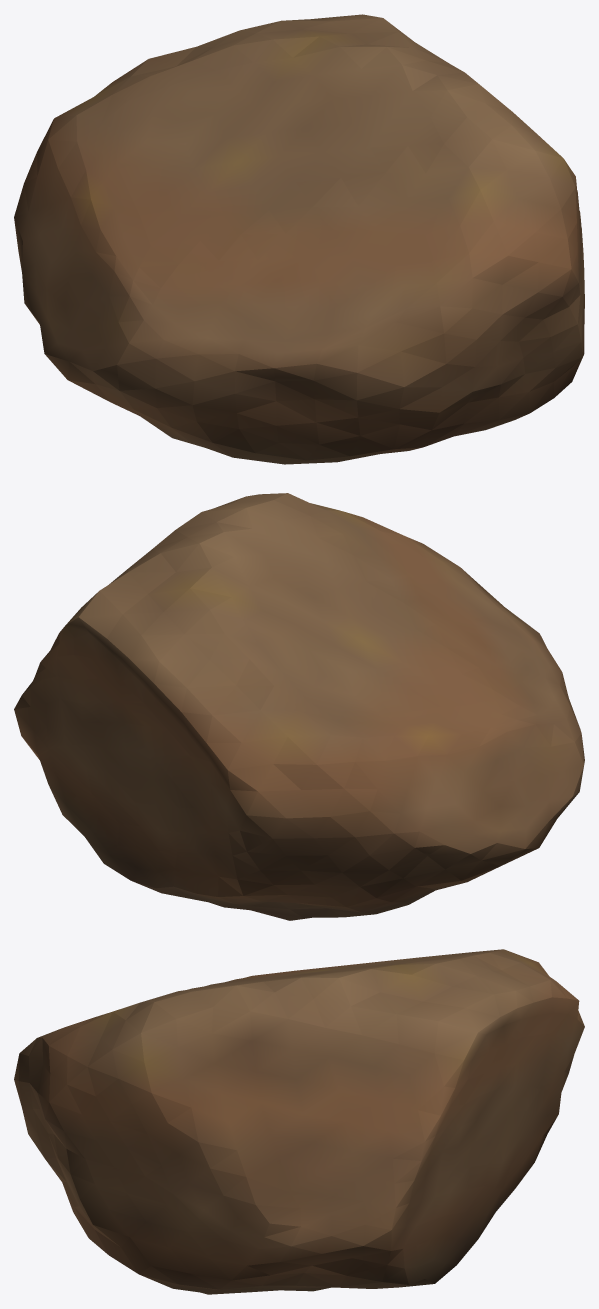
The model's file is boulder-b.lod0.glb.
3 renders of one model, top to bottom at view 1: azimuth 30°, elevation 25°; view 2: azimuth 150°, elevation 25°; view 3: azimuth 270°, elevation 25°, orthographic. The views are drawn at different scales.
Size of the model in its own units: 2.45 by 1.54 by 2.54.
